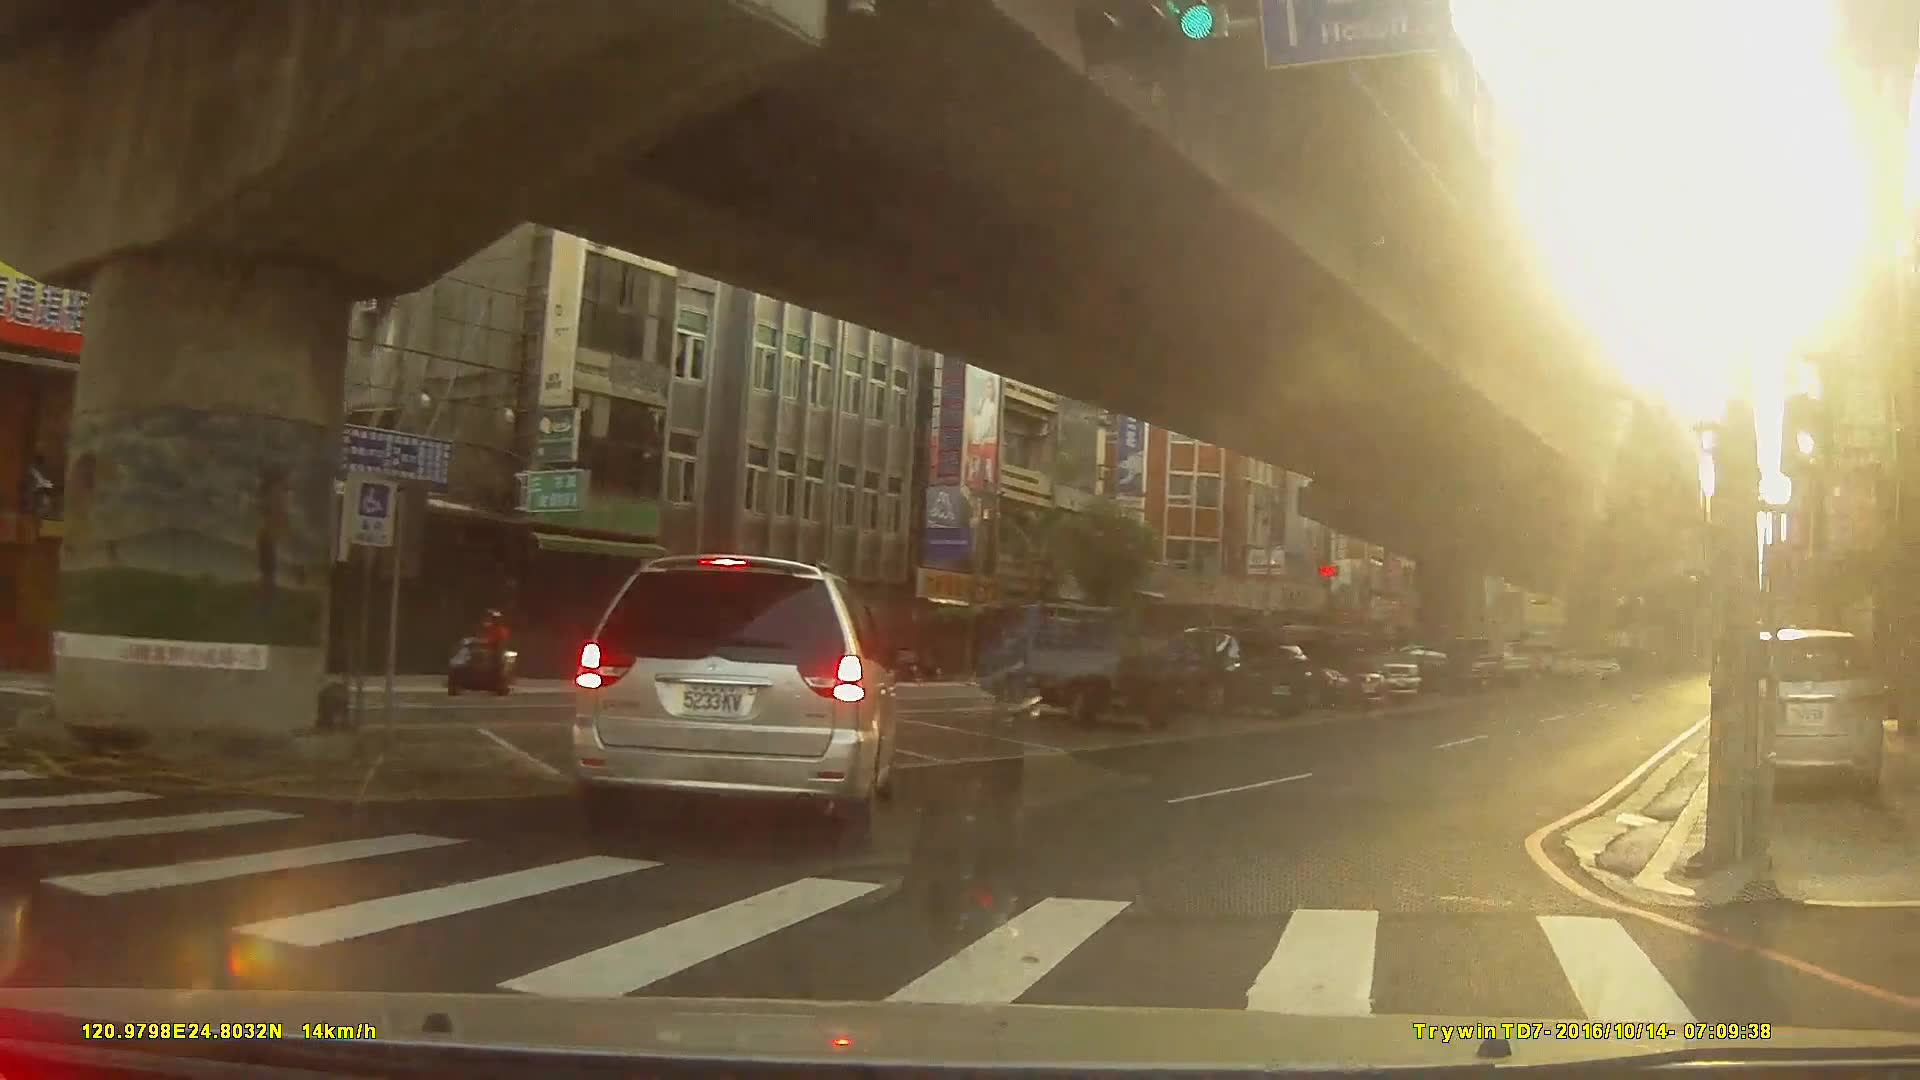rider: (448, 611, 517, 699)
vehicle: (571, 553, 900, 849), (1721, 625, 1885, 806), (977, 598, 1201, 723), (1143, 623, 1311, 717), (1232, 631, 1387, 709), (1372, 641, 1476, 693)
